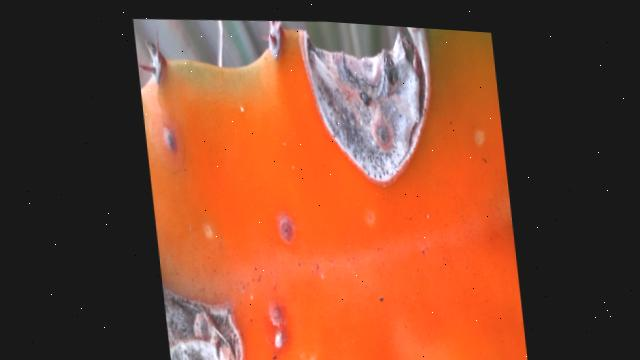stemcanker: (265, 295, 300, 358), (272, 207, 301, 246), (154, 120, 183, 159)
